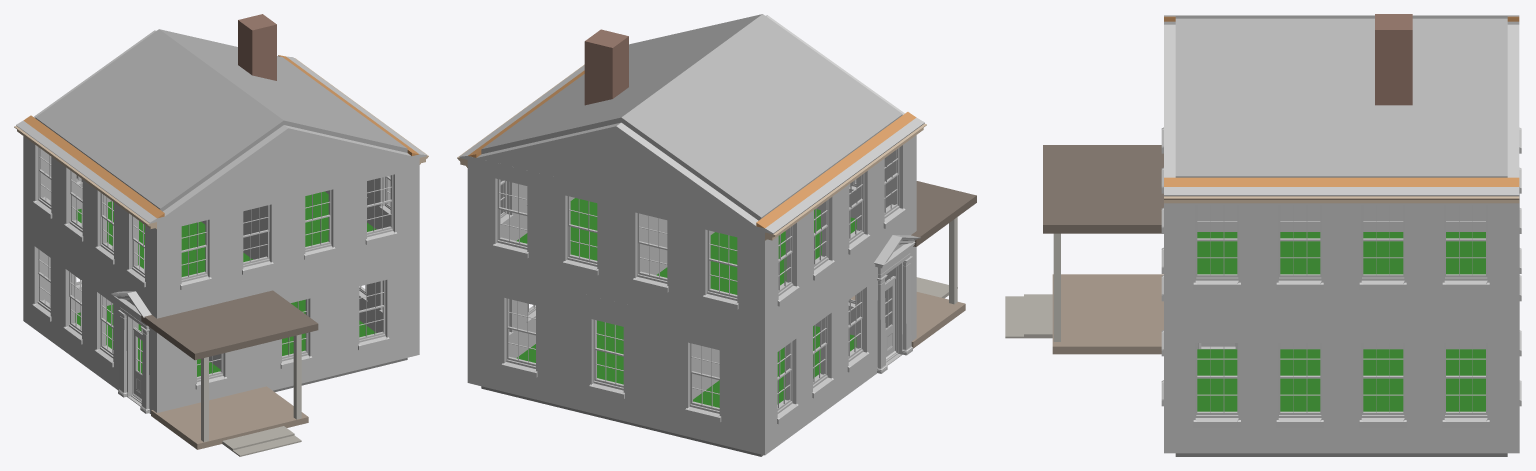
The model's file is homemaker-house.glb.
The picture shows the model from 3 angles, left to right: view 1: azimuth 30°, elevation 25°; view 2: azimuth 150°, elevation 25°; view 3: azimuth 270°, elevation 25°; orthographic projection. The views are drawn at different scales.
Parts seen in each view (by area): view 1: geometry_0; view 2: geometry_0; view 3: geometry_0.
Part boxes in pixels (box(x1,y1,x2,y2)): geometry_0: box(14, 14, 428, 456); geometry_0: box(457, 14, 976, 456); geometry_0: box(1005, 14, 1521, 456).
Size of the model in its own units: 9.1 by 9.1 by 10.9.
